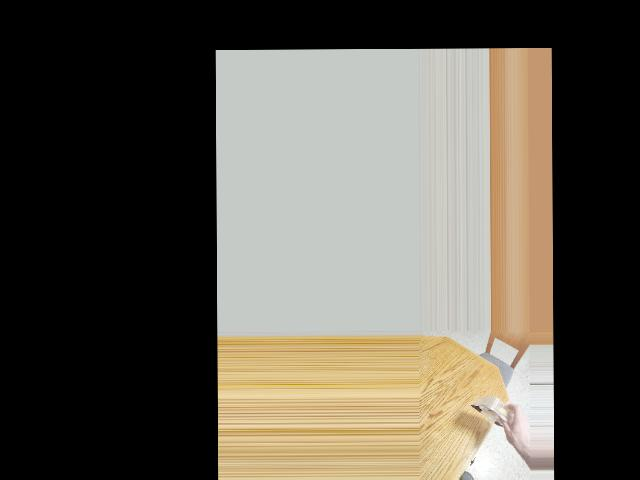cheese: (475, 390, 519, 442)
